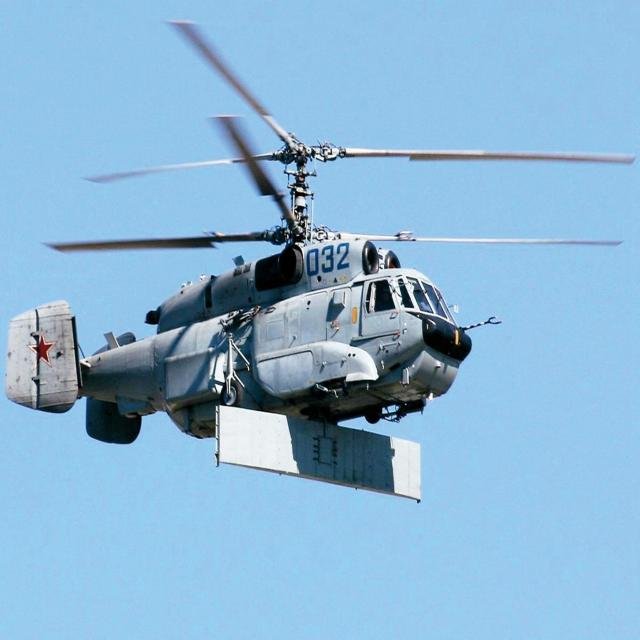MIL_HELO: (2, 12, 640, 504)
